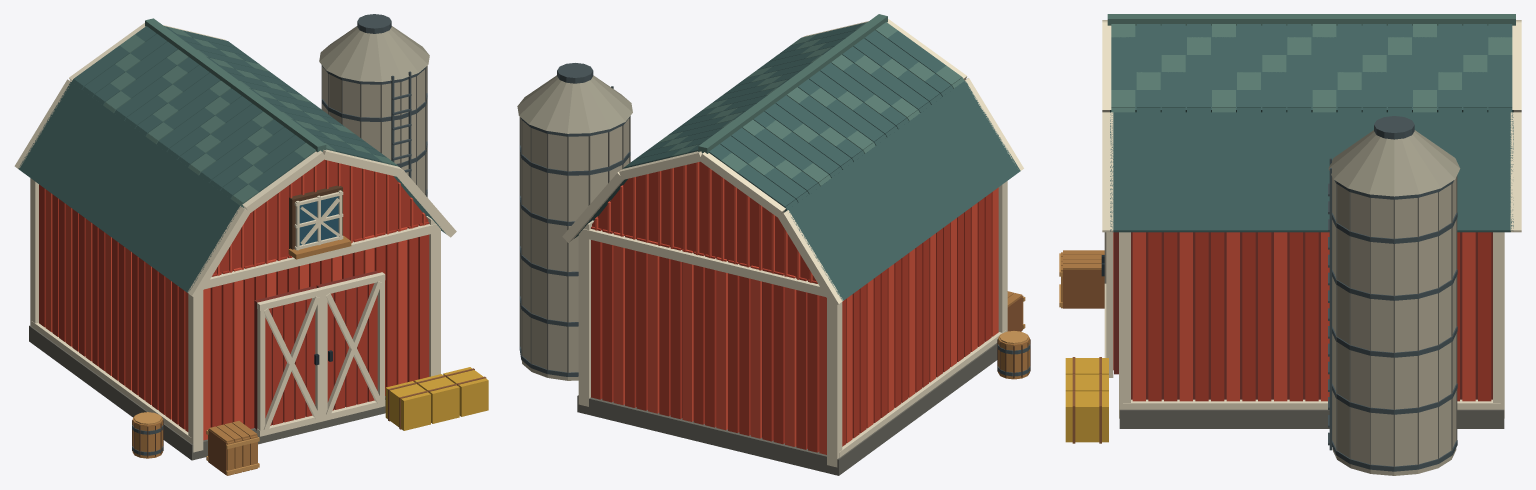
Rendered from barn.glb.
3 renders of one model, left to right at view 1: azimuth 30°, elevation 25°; view 2: azimuth 150°, elevation 25°; view 3: azimuth 270°, elevation 25°, orthographic. The views are drawn at different scales.
Visible parts, largest first — view 1: body__slate, body__red.002, body__red2.003, body__cream.002, body__slate2, body__stone2, door_left__cream, body__stone_dark, door_right__cream, body__stone, door_left__red, body__hay (+9 smaller); view 2: body__red.002, body__slate, body__red2.003, body__cream.002, body__stone2, body__stone_dark, body__slate2, body__stone, body__metal.005, body__wood2.001, body__red_dark.002; view 3: body__slate, body__stone2, body__red.002, body__red2.003, body__slate2, body__cream.002, body__stone_dark, body__red_dark.002, body__stone, body__metal.005, body__hay, body__wood.001 (+3 smaller).
Boxes of the visible parts, <box> form: body__slate: <box>18,26,445,293</box>; body__red.002: <box>39,159,429,429</box>; body__red2.003: <box>45,160,425,440</box>; body__cream.002: <box>14,23,456,452</box>; body__slate2: <box>103,18,398,207</box>; body__stone2: <box>322,66,426,194</box>; door_left__cream: <box>257,287,323,436</box>; body__stone_dark: <box>29,66,427,460</box>; door_right__cream: <box>320,272,385,421</box>; body__stone: <box>319,26,429,81</box>; door_left__red: <box>265,298,315,425</box>; body__hay: <box>385,367,488,430</box>; body__red.002: <box>591,161,991,452</box>; body__slate: <box>574,22,1020,300</box>; body__red2.003: <box>595,162,998,454</box>; body__cream.002: <box>562,19,1023,467</box>; body__stone2: <box>521,118,629,380</box>; body__stone_dark: <box>519,117,997,475</box>; body__slate2: <box>657,14,964,186</box>; body__stone: <box>517,75,632,133</box>; body__metal.005: <box>519,63,1030,376</box>; body__wood2.001: <box>998,291,1029,379</box>; body__red_dark.002: <box>594,220,807,448</box>; body__slate: <box>1110,24,1513,232</box>; body__stone2: <box>1332,177,1456,475</box>; body__red.002: <box>1148,232,1491,401</box>; body__red2.003: <box>1132,232,1475,401</box>; body__slate2: <box>1107,14,1515,112</box>; body__cream.002: <box>1102,20,1521,418</box>; body__stone_dark: <box>1119,175,1504,466</box>; body__red_dark.002: <box>1131,232,1492,399</box>; body__stone: <box>1328,130,1460,196</box>; body__metal.005: <box>1328,116,1457,471</box>; body__hay: <box>1065,358,1108,442</box>; body__wood.001: <box>1063,270,1104,443</box>.
Size of the model in its own units: 6.7 by 4.79 by 5.89.
